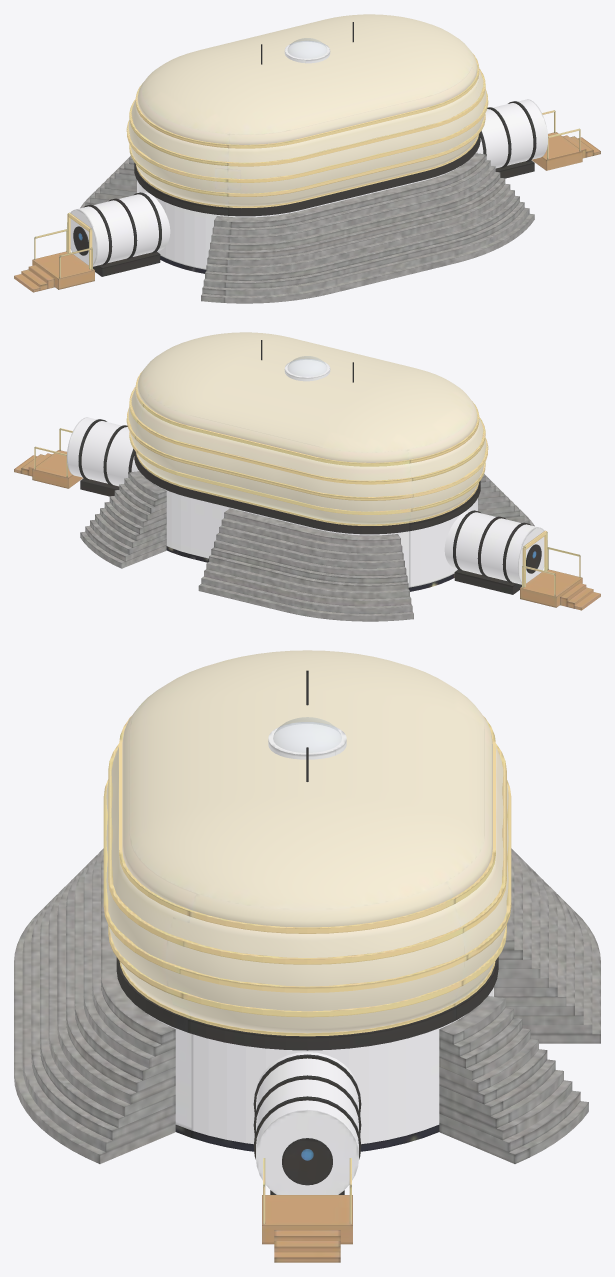
File: lunar_habitat_base_only_color.glb
3 views of the same model, one above another, from view 1: azimuth 30°, elevation 25°; view 2: azimuth 150°, elevation 25°; view 3: azimuth 270°, elevation 25° (orthographic). The views are drawn at different scales.
Parts seen in each view (by area): view 1: LunarHabitat_BaseOnly_Color_RICH_BAKED; view 2: LunarHabitat_BaseOnly_Color_RICH_BAKED; view 3: LunarHabitat_BaseOnly_Color_RICH_BAKED.
Boxes of the visible parts, x1=… form: LunarHabitat_BaseOnly_Color_RICH_BAKED: x1=14, y1=14, x2=600, y2=303; LunarHabitat_BaseOnly_Color_RICH_BAKED: x1=14, y1=332, x2=600, y2=621; LunarHabitat_BaseOnly_Color_RICH_BAKED: x1=14, y1=650, x2=600, y2=1262.
Bounding box in the file's own units: 27.3 × 8.4 × 14.2.
2 materials, 1 textured.
